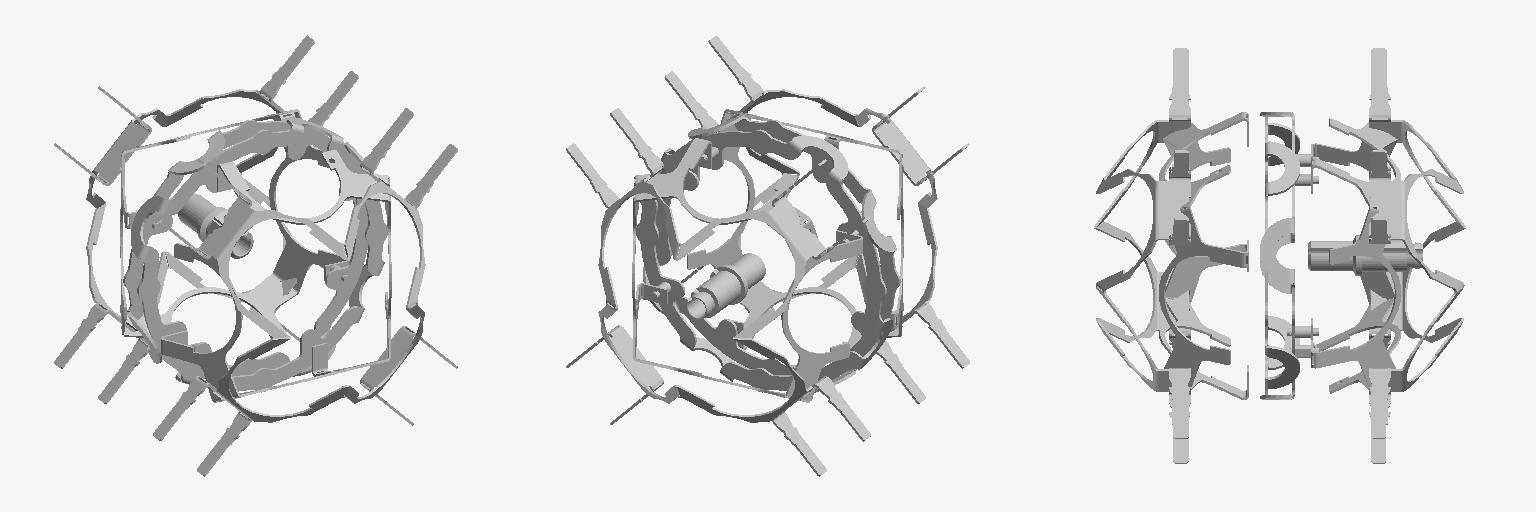
File: SupportStructure_250213.obj
3 views of the same model, side by side, from view 1: azimuth 30°, elevation 25°; view 2: azimuth 150°, elevation 25°; view 3: azimuth 270°, elevation 25° (orthographic).
Visible parts, largest first — view 1: Volumenkörper1:9, Volumenkörper1:10, Volumenkörper1:1, Volumenkörper1:7, Volumenkörper1:8, Volumenkörper1, Volumenkörper1:6; view 2: Volumenkörper1:1, Volumenkörper1:7, Volumenkörper1:9, Volumenkörper1:10, Volumenkörper1, Volumenkörper1:8, Volumenkörper1:6; view 3: Volumenkörper1:9, Volumenkörper1:1, Volumenkörper1:8, Volumenkörper1, Volumenkörper1:10, Volumenkörper1:7, Volumenkörper1:6.
Boxes of the visible parts, x1,y1,x2,y2 form: Volumenkörper1:9: [153, 108, 457, 476]; Volumenkörper1:10: [131, 117, 387, 392]; Volumenkörper1:1: [54, 35, 358, 403]; Volumenkörper1:7: [123, 120, 375, 378]; Volumenkörper1:8: [161, 150, 391, 402]; Volumenkörper1: [120, 109, 349, 346]; Volumenkörper1:6: [177, 194, 253, 258]; Volumenkörper1:1: [566, 108, 870, 476]; Volumenkörper1:7: [636, 129, 892, 392]; Volumenkörper1:9: [665, 36, 969, 403]; Volumenkörper1:10: [643, 115, 900, 392]; Volumenkörper1: [632, 138, 862, 402]; Volumenkörper1:8: [687, 109, 903, 349]; Volumenkörper1:6: [686, 253, 765, 319]; Volumenkörper1:9: [1094, 48, 1190, 463]; Volumenkörper1:1: [1369, 48, 1465, 463]; Volumenkörper1:8: [1159, 112, 1248, 399]; Volumenkörper1: [1311, 118, 1400, 393]; Volumenkörper1:10: [1265, 117, 1299, 394]; Volumenkörper1:7: [1260, 112, 1294, 399]; Volumenkörper1:6: [1308, 235, 1422, 275].
Size of the model in its own units: 214 by 215 by 231.